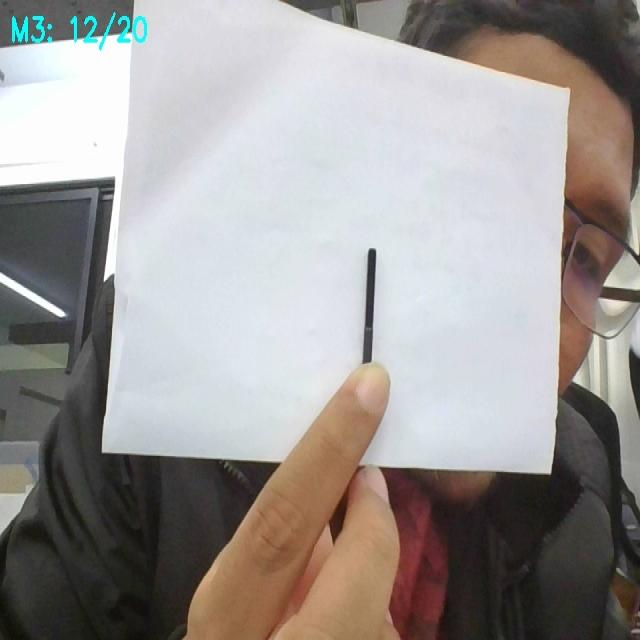vastago: (363, 248, 376, 363)
